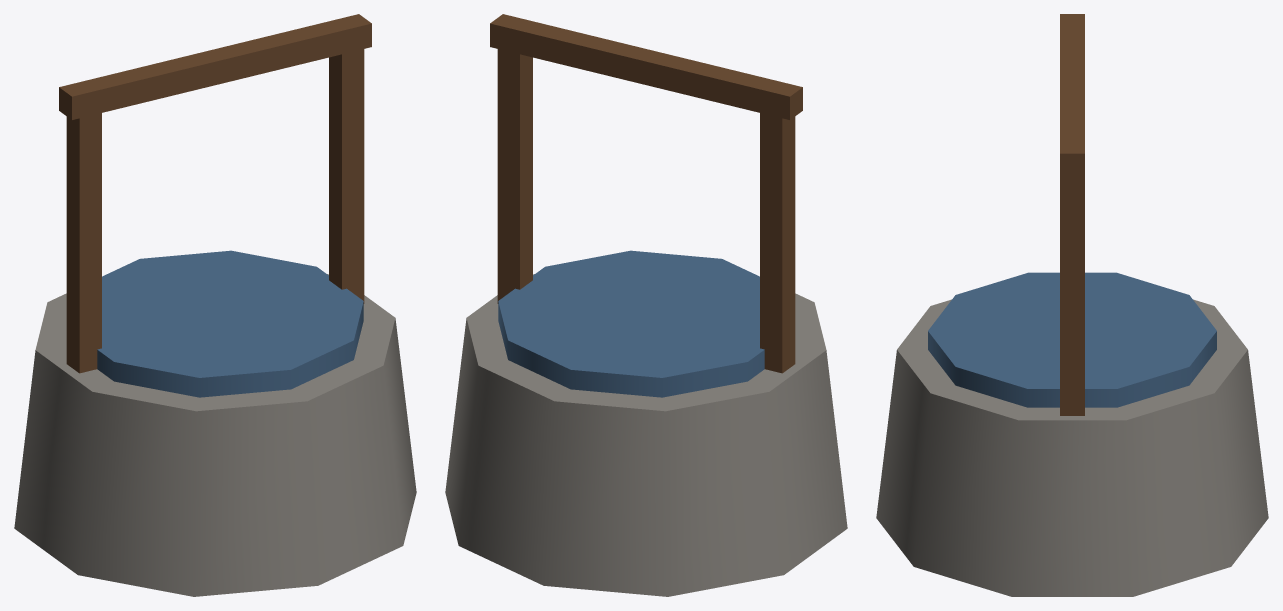
The model's file is well.glb.
The picture shows the model from 3 angles, left to right: view 1: azimuth 30°, elevation 25°; view 2: azimuth 150°, elevation 25°; view 3: azimuth 270°, elevation 25°; orthographic projection. The views are drawn at different scales.
Visible parts, largest first — view 1: well; view 2: well; view 3: well.
Boxes of the visible parts, box(x1,y1,x2,y2) form: well: box(14, 14, 416, 596); well: box(445, 14, 847, 596); well: box(876, 14, 1268, 596).
Size of the model in its own units: 1.81 by 2.32 by 1.9.
